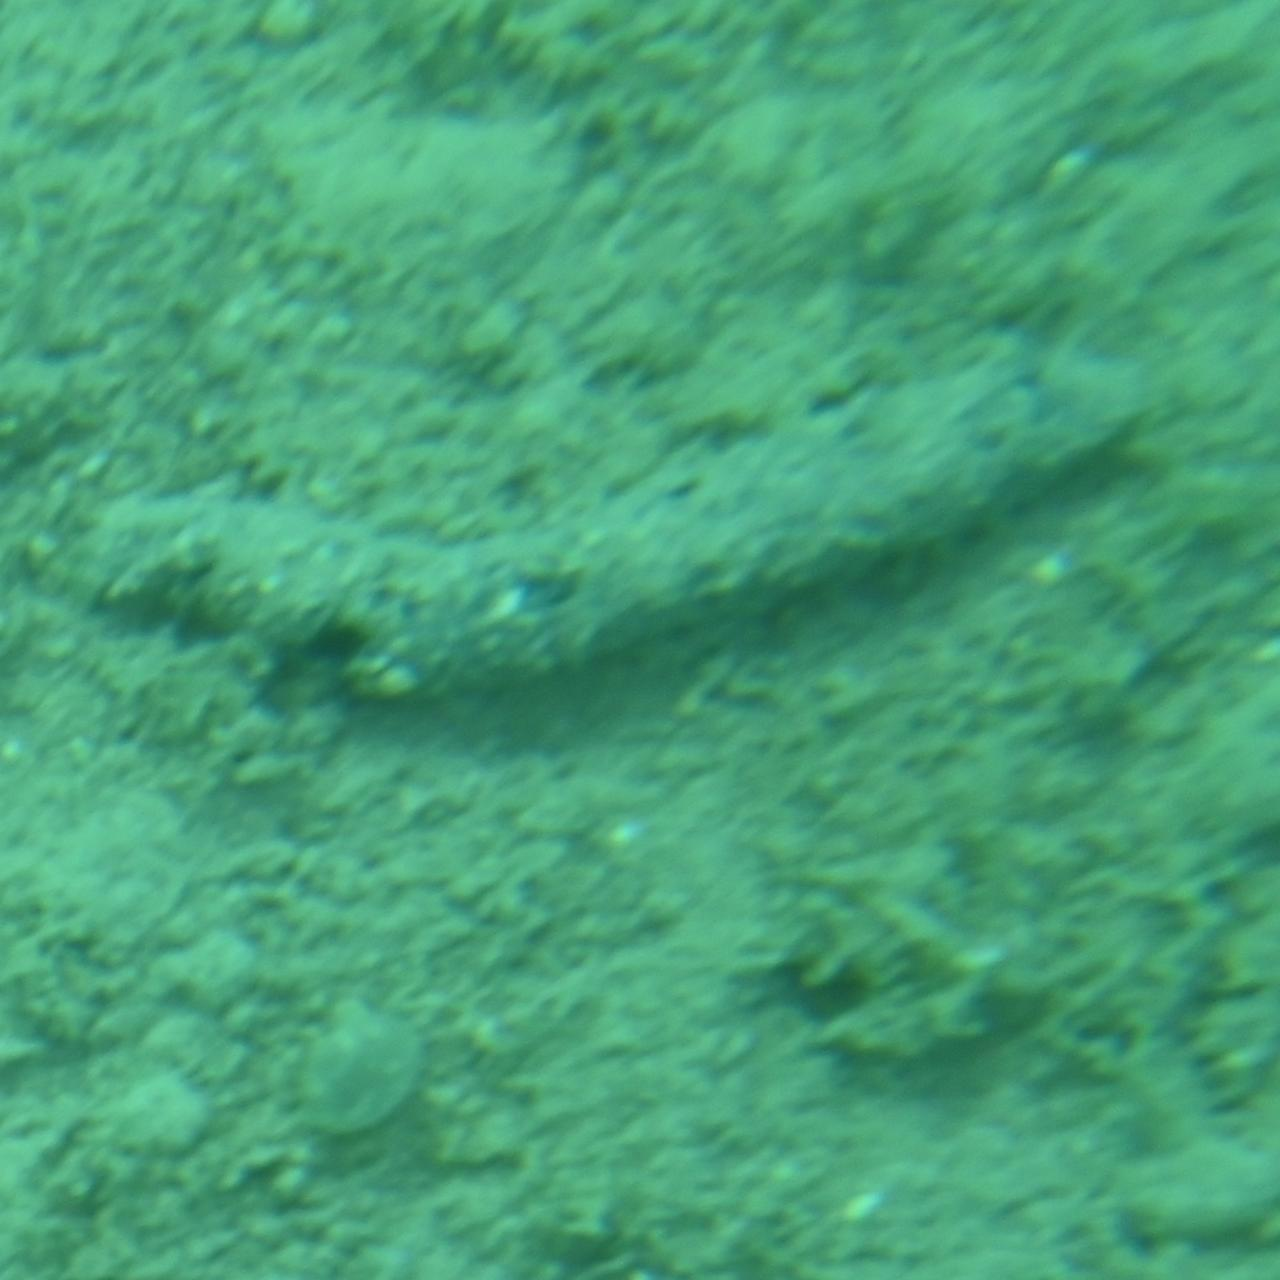Holothuria tubulosa: (111, 309, 1169, 745)
